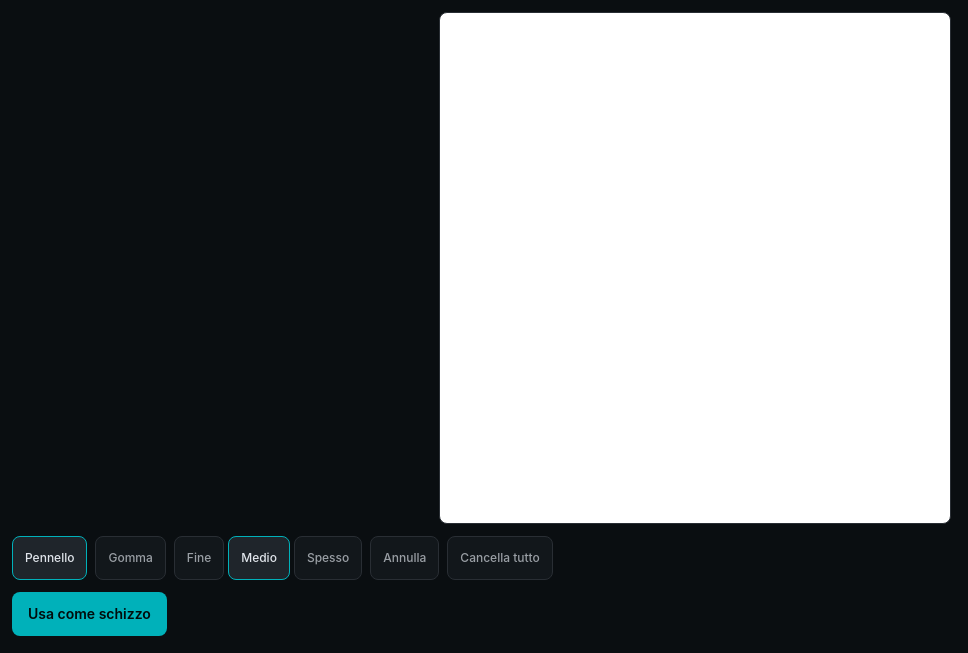
Test: SketchPad › exports the drawing as a PNG, uploads it and hands a ReferenceItem back
The image size is (968, 653).
Click the button "Usa come schizzo".
click(89, 614)  # box [12,592,167,636]
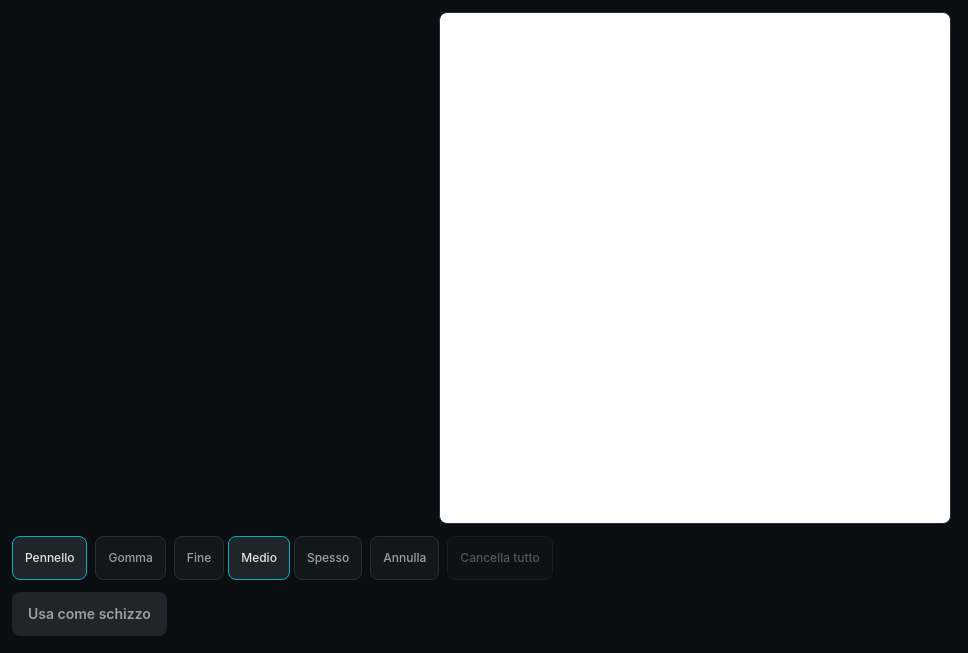
Check: the button "Usa come schizzo" is disabled, box [12,592,167,636]
